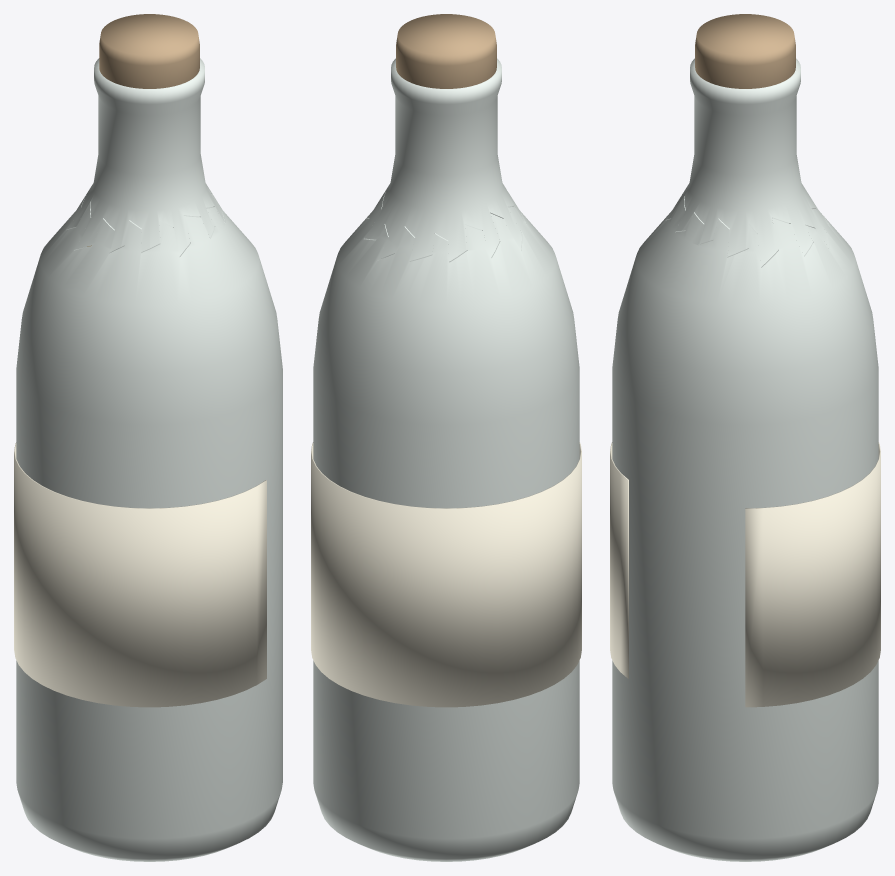
The model's file is bottle_whiskey_broken.glb.
3 views of the same model, side by side, from view 1: azimuth 30°, elevation 25°; view 2: azimuth 150°, elevation 25°; view 3: azimuth 270°, elevation 25° (orthographic).
Visible parts, largest first — view 1: Glass.001, Label, Neck, Cap; view 2: Glass.001, Label, Neck, Cap; view 3: Glass.001, Label, Neck, Cap.
Part boxes in pixels (x1,y1,x2,y2): Glass.001: (16,194,282,861); Label: (14,442,266,707); Neck: (67,58,224,255); Cap: (99,14,199,88); Glass.001: (313,191,579,861); Label: (311,442,581,707); Neck: (364,58,525,261); Cap: (396,14,496,88); Glass.001: (612,194,878,861); Label: (610,442,880,707); Neck: (666,58,829,266); Cap: (695,14,795,88).
Bounding box in the file's own units: 0.0742 × 0.236 × 0.0742.
